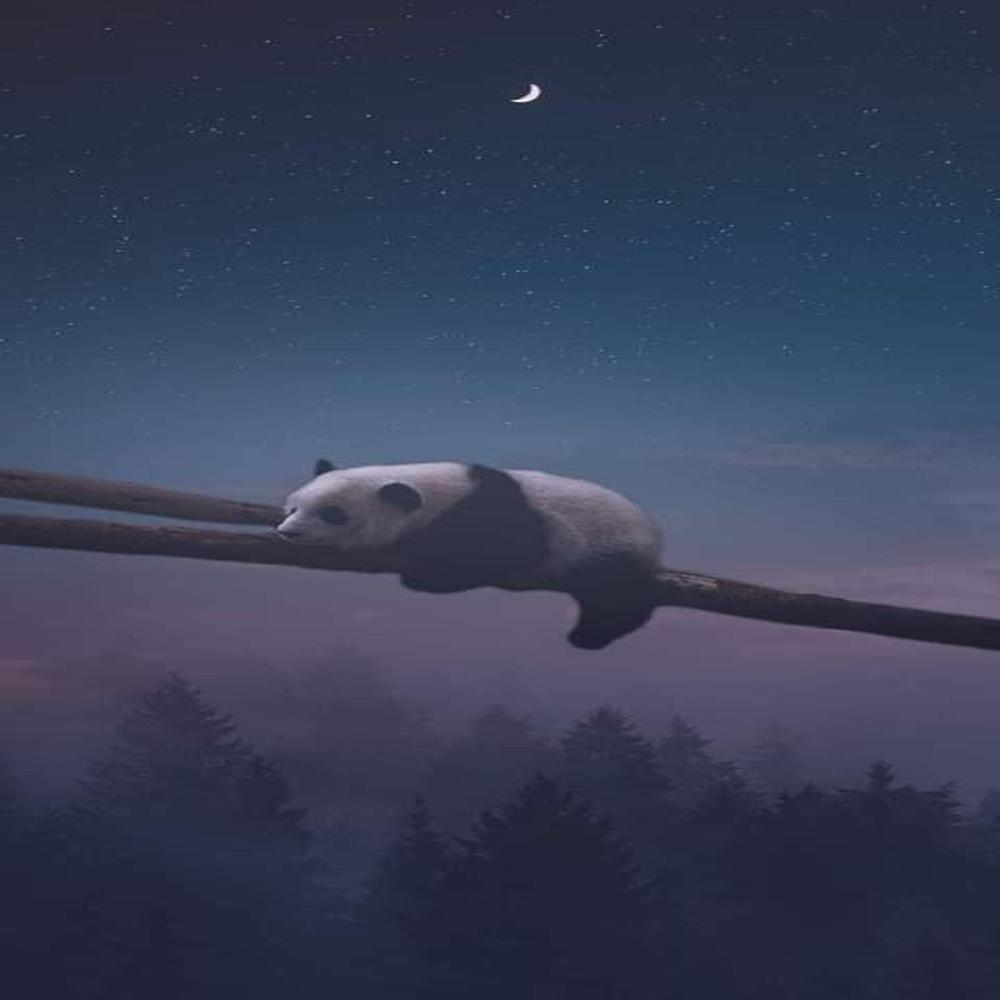panda: (274, 442, 671, 654)
